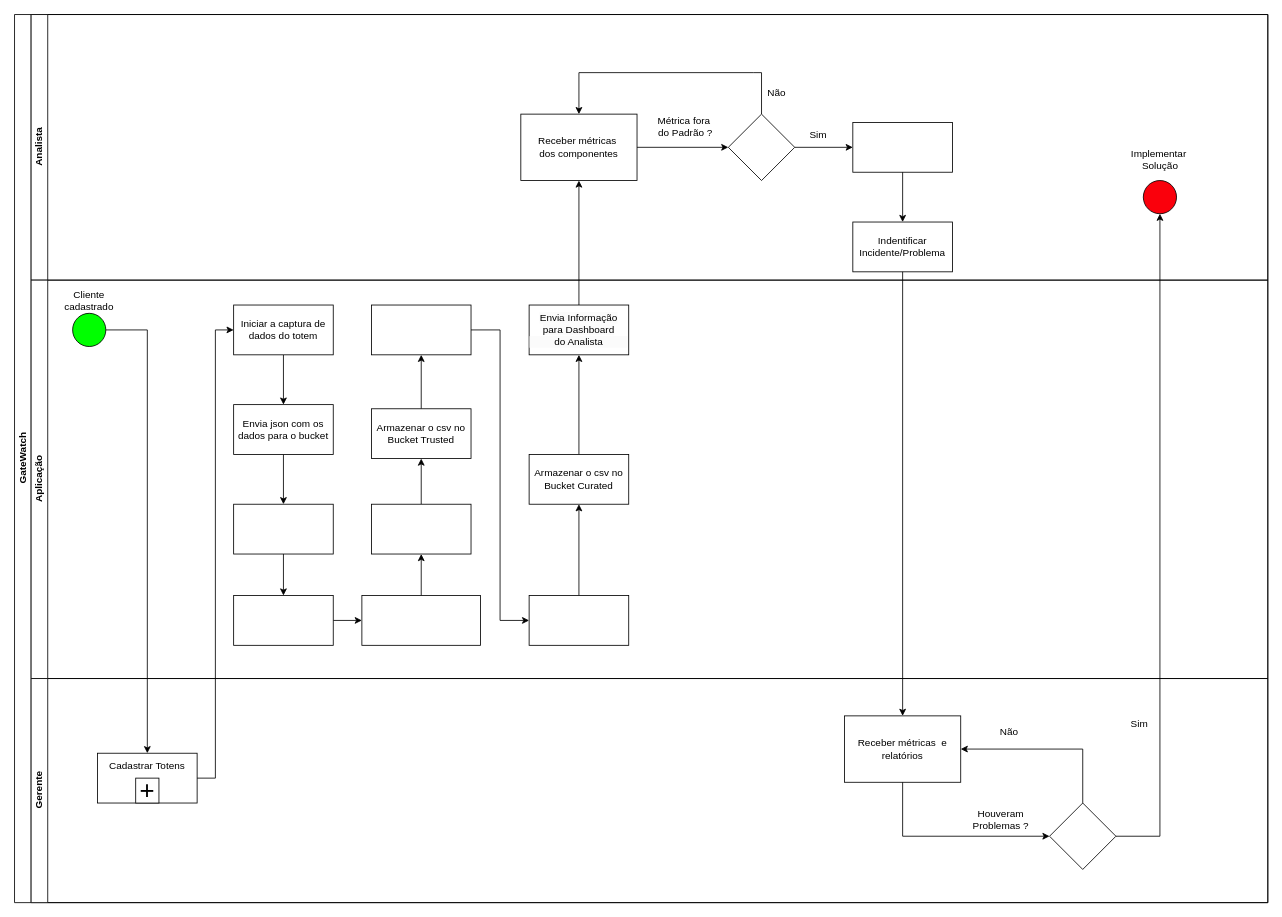
Image size: 1282x917. Some labels were removed from this diagram. Here are the shapes that lost their labels. From the top down, the centre of each, then its label:
At point (902, 147): "Receber alerta".
At point (421, 329): "Coletar fatias de dados para insights".
At point (283, 528): "Armazenar o json no Bucket Raw".
At point (421, 528): "Envia o csv para o bucket trusted".
At point (283, 620): "Capturar Json co bucker via ETL Java".
At point (421, 620): "Receber e Transformaro json com os dados para csv".
At point (578, 620): "Enviar dados selecionados para insights".
